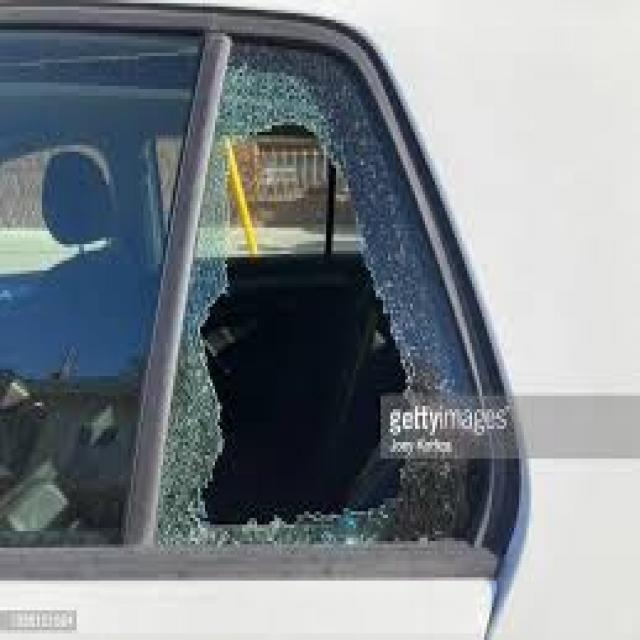damaged-window: (158, 16, 500, 556)
